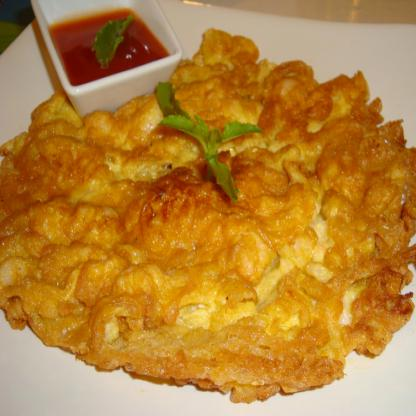Omelette: (0, 23, 414, 396)
